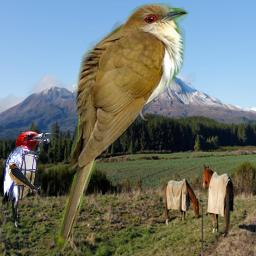Cuckoo: (54, 3, 189, 253)
Swallow: (8, 162, 45, 203)
Woodpecker: (2, 130, 54, 231)
